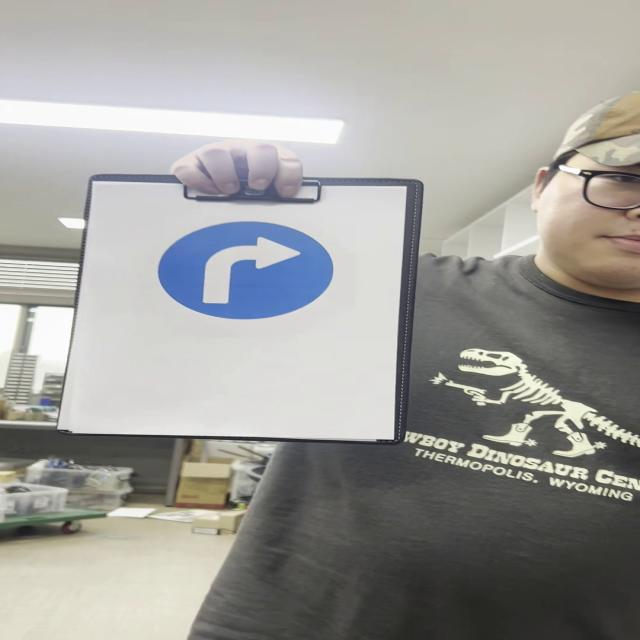right: (157, 222, 340, 319)
